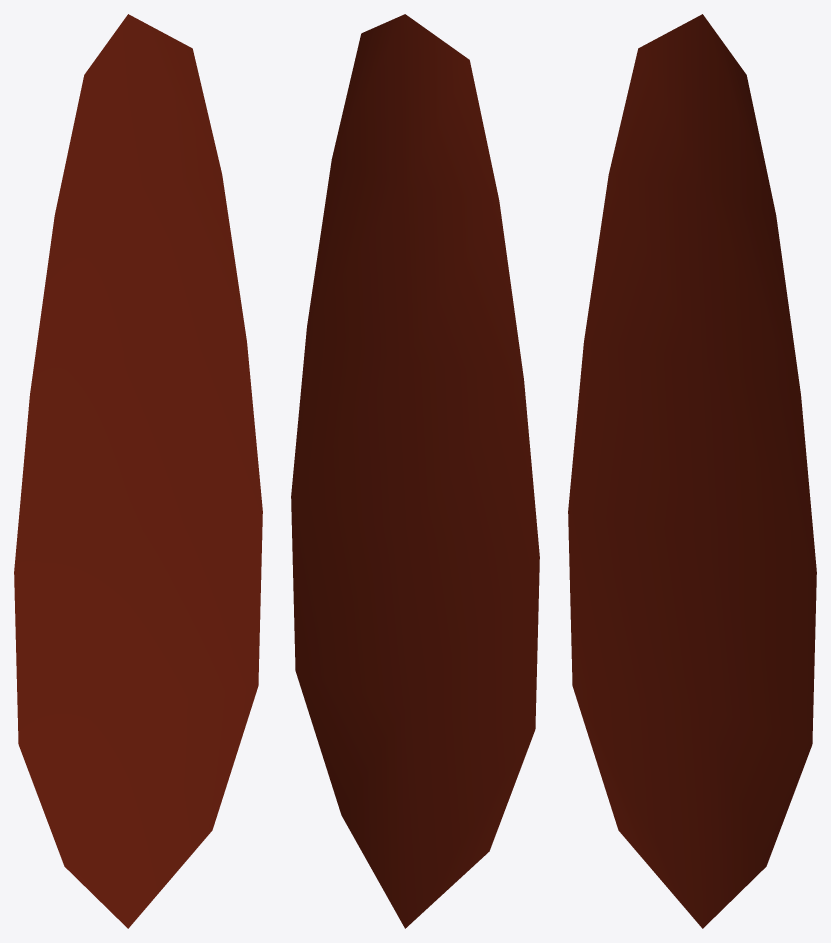
The model's file is pheasant_feather_flight_tertiary_046.obj.
3 renders of one model, left to right at view 1: azimuth 30°, elevation 25°; view 2: azimuth 150°, elevation 25°; view 3: azimuth 330°, elevation 25°, orthographic.
Visible parts, largest first — view 1: feather_flight_tertiary_046; view 2: feather_flight_tertiary_046; view 3: feather_flight_tertiary_046.
Part boxes in pixels (left/top/right/bottom): feather_flight_tertiary_046: left=14, top=14, right=262, bottom=928; feather_flight_tertiary_046: left=291, top=14, right=539, bottom=928; feather_flight_tertiary_046: left=568, top=14, right=816, bottom=928.
Bounding box in the file's own units: 0.00887 × 0.0312 × 0.000634.
